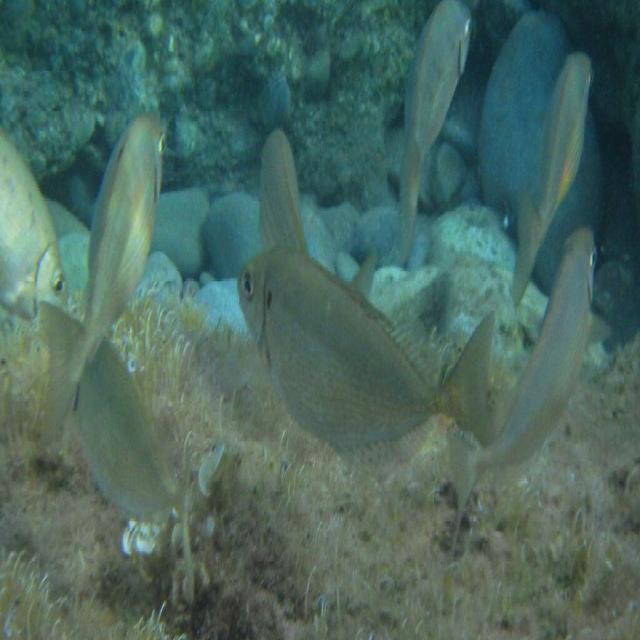Sokar Baligi: (233, 226, 501, 497), (19, 86, 190, 463), (495, 29, 615, 303)
